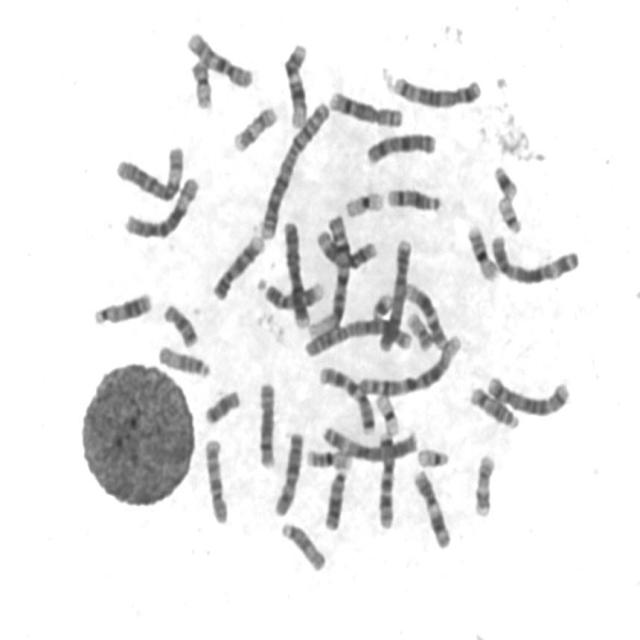A1: (354, 329, 464, 399), (304, 211, 352, 338)
A2: (256, 97, 331, 241), (300, 312, 415, 358)
A3: (487, 228, 581, 286), (318, 420, 419, 463)
B4: (374, 232, 414, 354), (279, 215, 312, 331)
B5: (484, 370, 572, 418), (388, 70, 483, 109)
C10: (182, 26, 255, 90), (200, 432, 231, 525)
C11: (410, 464, 452, 551), (312, 225, 379, 272)
C12: (400, 277, 450, 350), (279, 38, 310, 129)
C6: (119, 170, 202, 240), (111, 138, 186, 204)
C7: (314, 361, 376, 436), (372, 426, 397, 530)
C8: (324, 85, 405, 129), (253, 376, 278, 472)
C9: (208, 229, 266, 302), (255, 273, 327, 311)
D13: (89, 285, 154, 328), (320, 464, 349, 533)
D14: (466, 380, 522, 431), (382, 180, 444, 213)
D15: (277, 518, 328, 573), (153, 339, 213, 380)
E16: (463, 218, 500, 284), (302, 442, 354, 472)
E17: (228, 100, 280, 153), (470, 448, 497, 520)
E18: (158, 298, 200, 350), (200, 383, 243, 427)
F19: (371, 388, 402, 437), (341, 186, 385, 220)
F20: (187, 55, 214, 111), (402, 305, 434, 352)
G21: (489, 159, 520, 200), (368, 287, 394, 320)
G22: (493, 190, 524, 234), (413, 442, 452, 469)
X: (270, 426, 305, 518), (362, 126, 438, 167)
